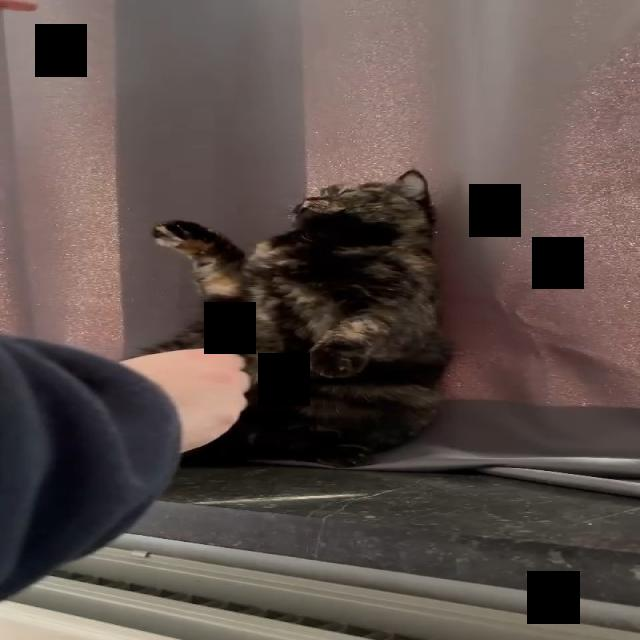authorized: (134, 168, 454, 468)
